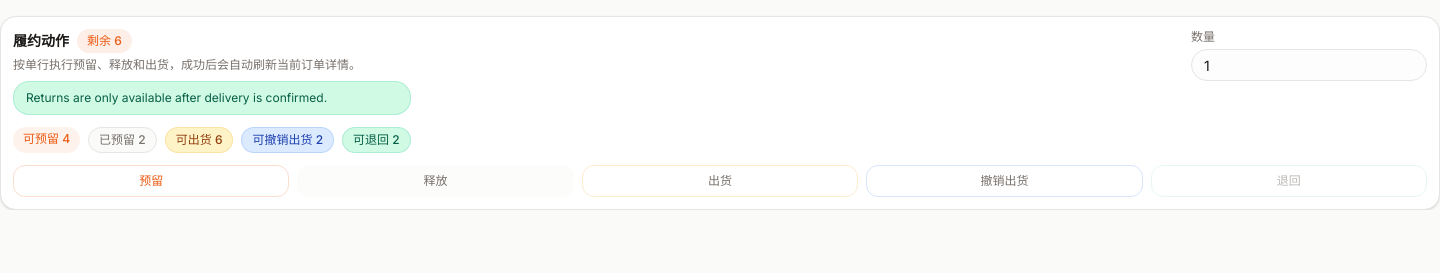
Test: OrderLineCommandPanel › blocks invalid command quantities and shows inline validation feedback
Replace the text in the number field labelled "数量" with "99": (1309, 65) [1191, 49, 1427, 81]
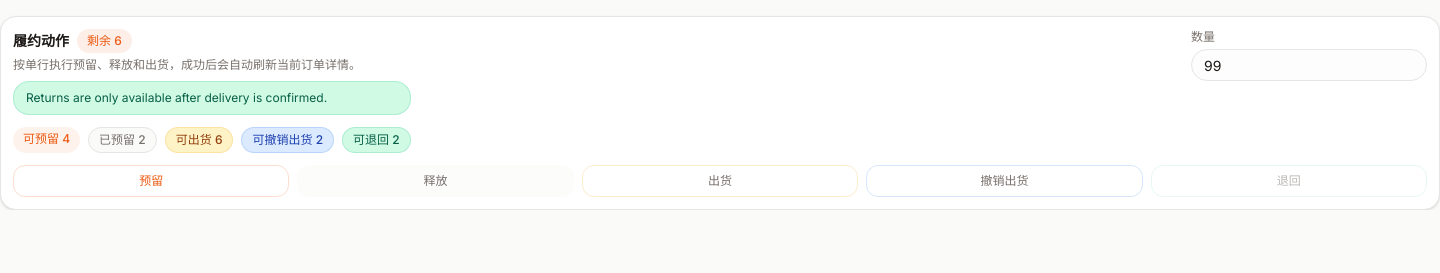
Click the button with test id "line-command-reserve": click(151, 181) [13, 165, 289, 197]
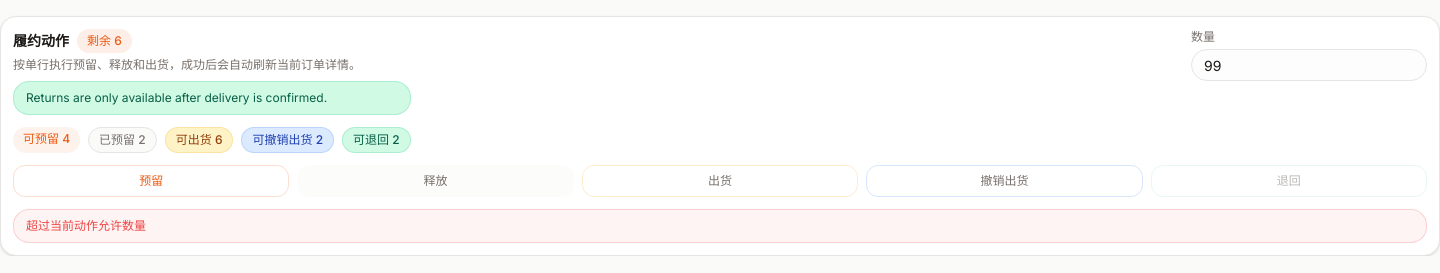
Now the text "超过当前动作允许数量" is shown, box [13, 209, 1427, 243]
